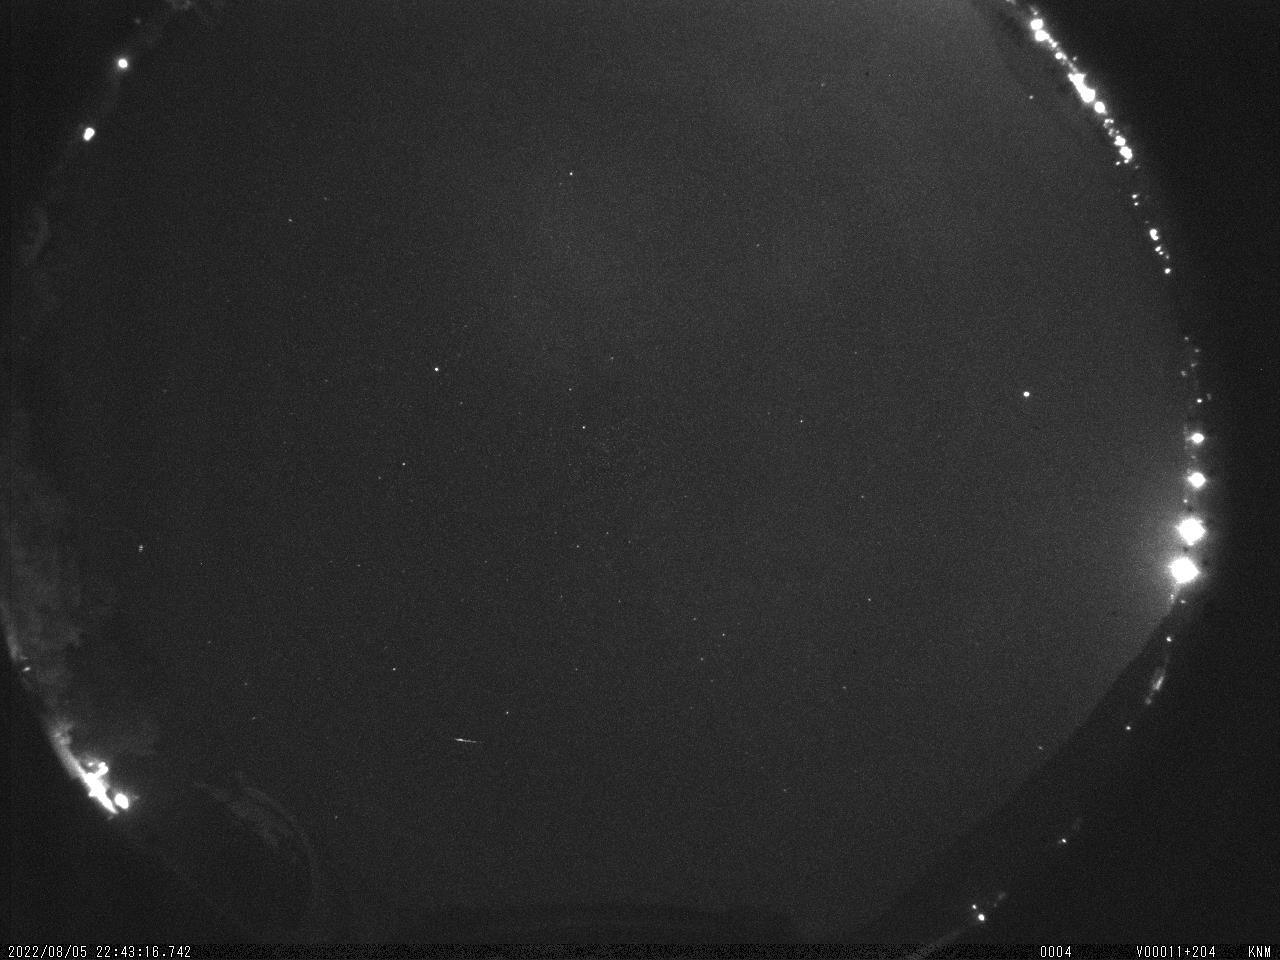Meteor: (451, 732, 486, 747)
